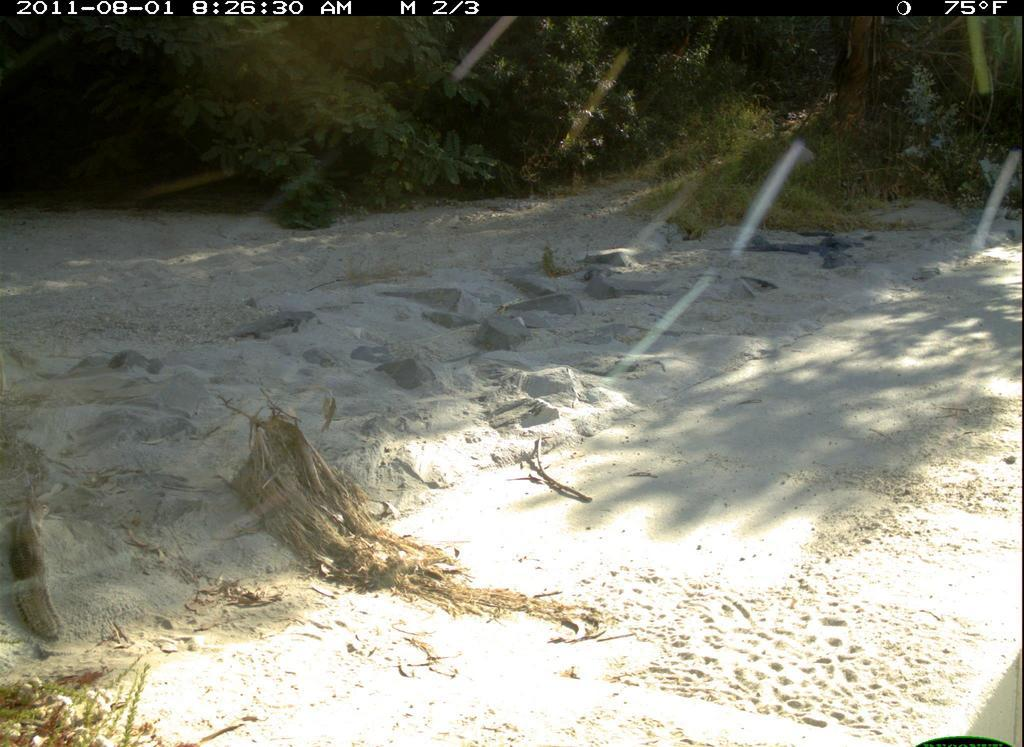squirrel: (7, 478, 76, 655)
